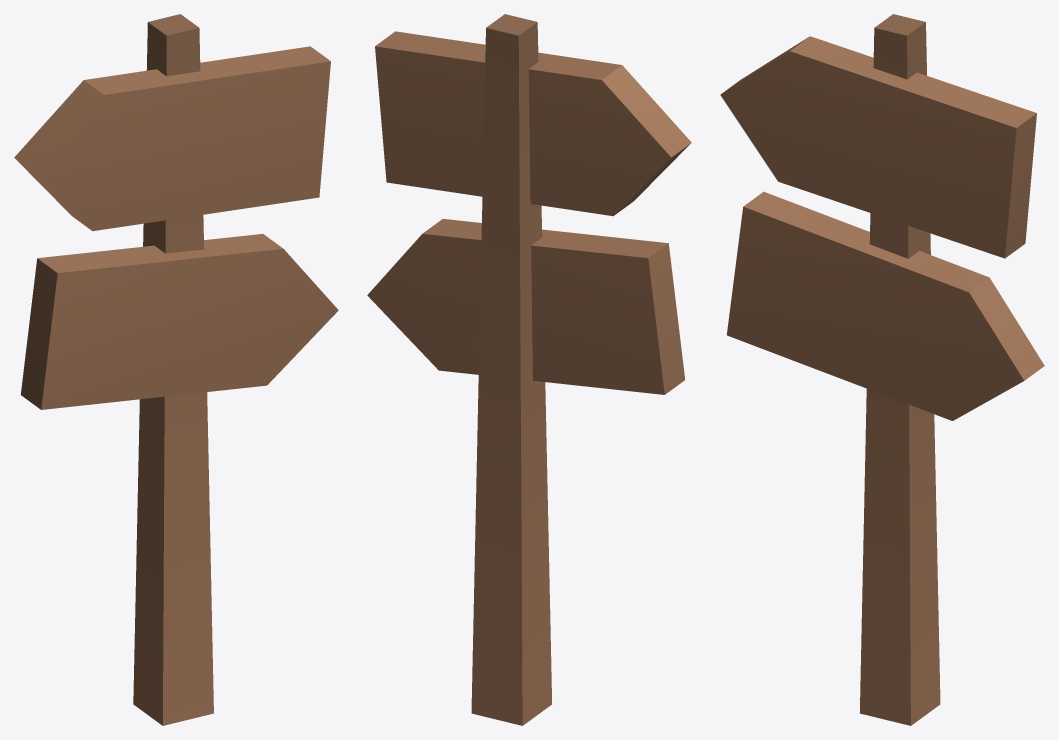
The model's file is signpost.glb.
3 views of the same model, side by side, from view 1: azimuth 30°, elevation 25°; view 2: azimuth 150°, elevation 25°; view 3: azimuth 330°, elevation 25° (orthographic).
Parts seen in each view (by area): view 1: signpost; view 2: signpost; view 3: signpost.
Part boxes in pixels (x1=…): signpost: x1=14, y1=14, x2=338, y2=725; signpost: x1=367, y1=14, x2=691, y2=725; signpost: x1=720, y1=14, x2=1044, y2=725.
Size of the model in its own units: 0.2141 by 0.4601 by 0.043.
